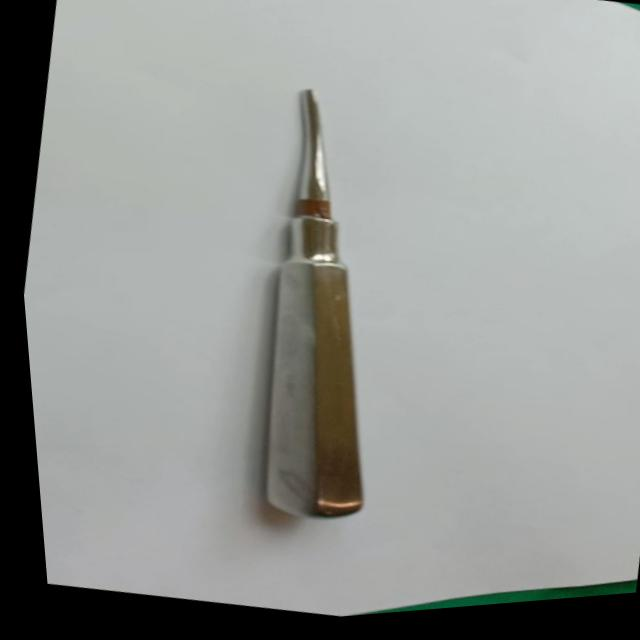Coupland1: (192, 73, 453, 545)
